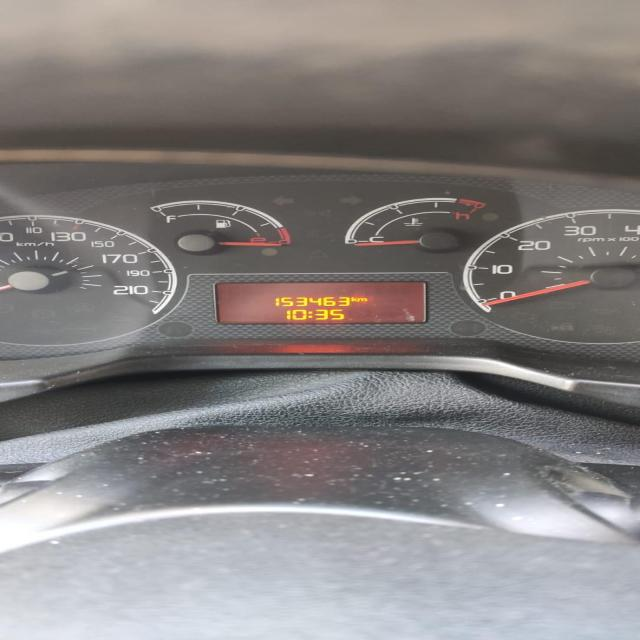odometer: (207, 279, 434, 324)
